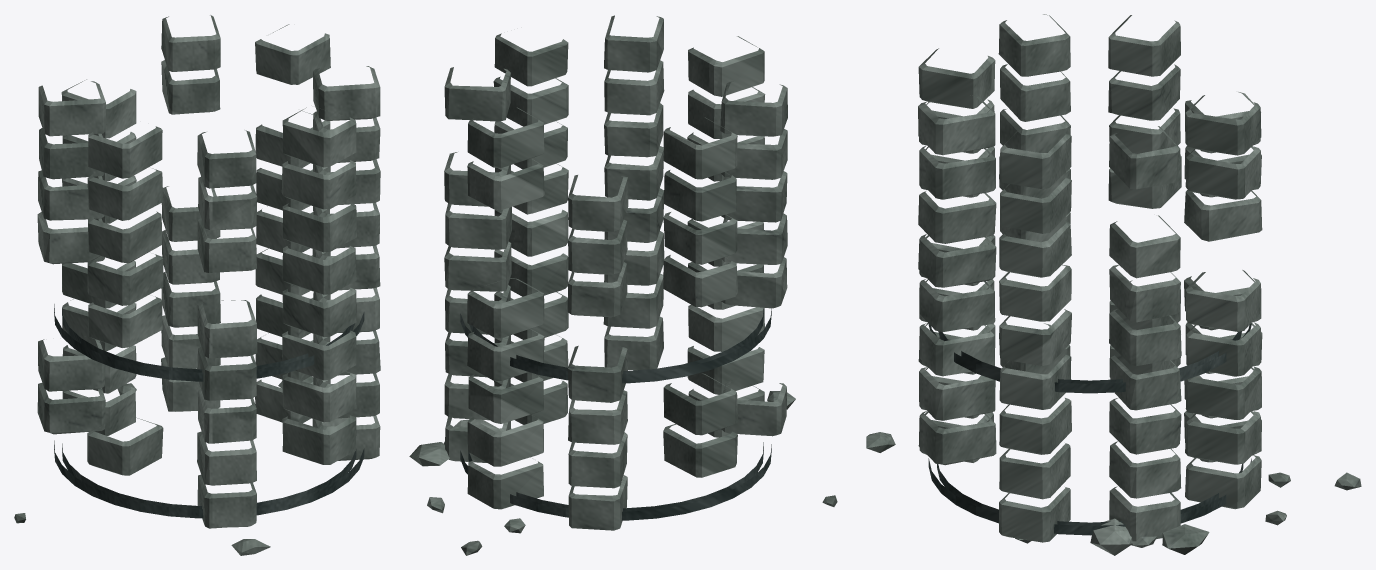
File: 0407_ruined_tower_07.glb
The picture shows the model from 3 angles, left to right: view 1: azimuth 30°, elevation 25°; view 2: azimuth 150°, elevation 25°; view 3: azimuth 270°, elevation 25°; orthographic projection. The views are drawn at different scales.
Visible parts, largest first — view 1: stone, stone_dark; view 2: stone, stone_dark; view 3: stone, stone_dark.
Part boxes in pixels (x1,y1,x2,y2): stone: (14, 15, 380, 555); stone_dark: (54, 304, 364, 518); stone: (409, 15, 837, 555); stone_dark: (460, 308, 771, 520); stone: (866, 14, 1361, 555); stone_dark: (928, 323, 1251, 535).
Size of the model in its own units: 3.76 by 3.79 by 4.27.
Materials: 2 (2 with a texture image).
